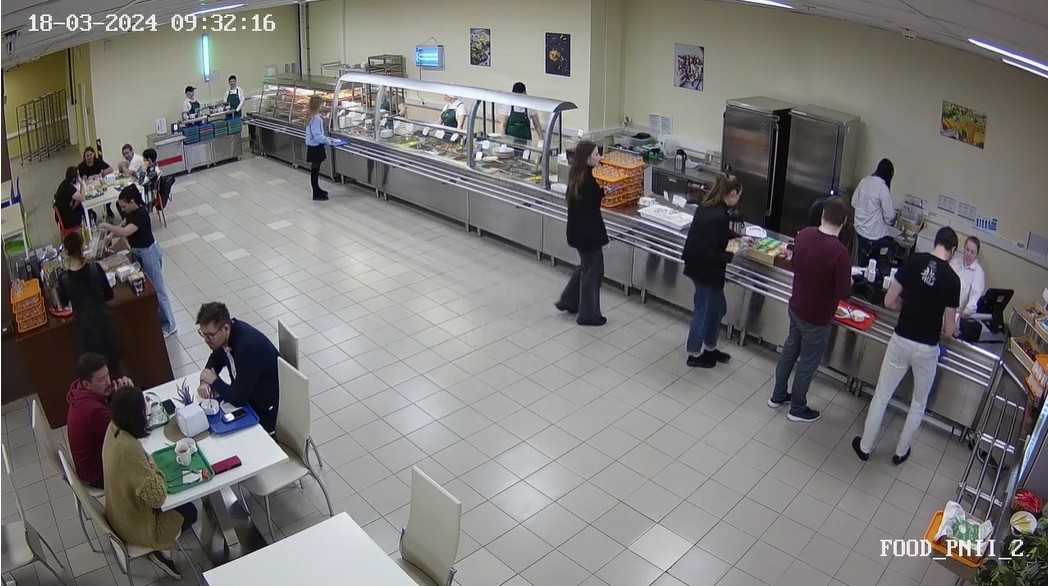Na_Kasse: (798, 208, 982, 470), (718, 185, 872, 419)
Ne_v_Ocheredi: (43, 226, 173, 388), (101, 186, 228, 344)
Personal: (852, 153, 895, 253), (436, 77, 474, 141), (961, 231, 988, 319), (177, 81, 207, 140), (222, 70, 249, 123)
Vybiraet: (677, 151, 751, 379), (555, 139, 614, 336), (298, 90, 341, 202)
Za_Stolom: (195, 295, 288, 437), (104, 387, 174, 545), (55, 350, 114, 490), (54, 162, 88, 226), (72, 140, 113, 180), (115, 133, 142, 180), (140, 146, 162, 198)
